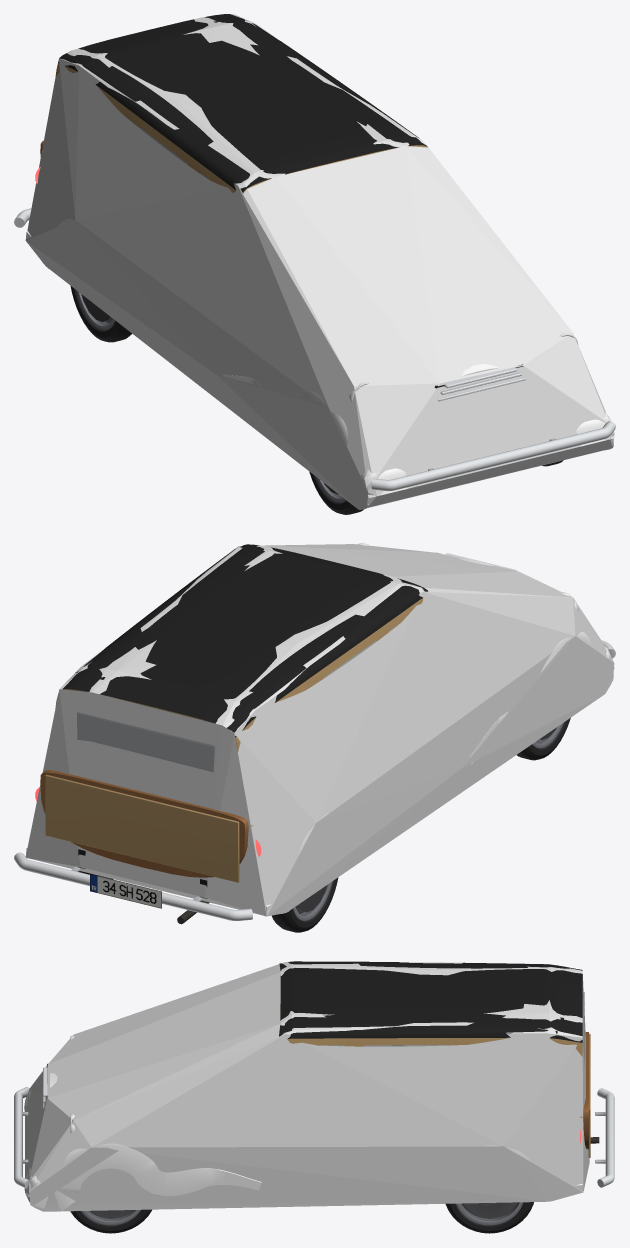
File: bosfor_sahil_lod0.glb
3 views of the same model, one above another, from view 1: azimuth 30°, elevation 25°; view 2: azimuth 150°, elevation 25°; view 3: azimuth 270°, elevation 25° (orthographic). The views are drawn at different scales.
Visible parts, largest first — view 1: col_body, trim, exhaust, body, interior, wheel_RR, wheel_FR; view 2: col_body, trim, interior, glass, exhaust, plate_rear, wheel_RR, body, wheel_FR; view 3: col_body, trim, body, exhaust, interior, wheel_RL, wheel_FL, brake_RL.
Boxes of the visible parts, bbox=[...] form: col_body: bbox=[25, 14, 614, 509]; trim: bbox=[58, 14, 523, 388]; exhaust: bbox=[14, 208, 615, 491]; body: bbox=[26, 219, 614, 509]; interior: bbox=[40, 63, 427, 192]; wheel_RR: bbox=[70, 286, 131, 342]; wheel_FR: bbox=[309, 471, 363, 514]; col_body: bbox=[25, 544, 614, 916]; trim: bbox=[62, 544, 436, 737]; interior: bbox=[40, 598, 423, 882]; glass: bbox=[77, 626, 396, 771]; exhaust: bbox=[14, 543, 615, 924]; plate_rear: bbox=[90, 874, 161, 908]; wheel_RR: bbox=[272, 877, 338, 932]; body: bbox=[26, 544, 614, 916]; wheel_FR: bbox=[517, 718, 570, 760]; col_body: bbox=[25, 961, 589, 1211]; trim: bbox=[47, 961, 582, 1097]; body: bbox=[24, 1036, 583, 1211]; exhaust: bbox=[14, 1036, 614, 1188]; interior: bbox=[279, 963, 590, 1157]; wheel_RL: bbox=[445, 1202, 533, 1233]; wheel_FL: bbox=[70, 1209, 151, 1233]; brake_RL: bbox=[463, 1202, 515, 1218].
Bounding box in the file's own units: 1.78 × 1.72 × 4.69.
Materials: 11 (1 with a texture image).
